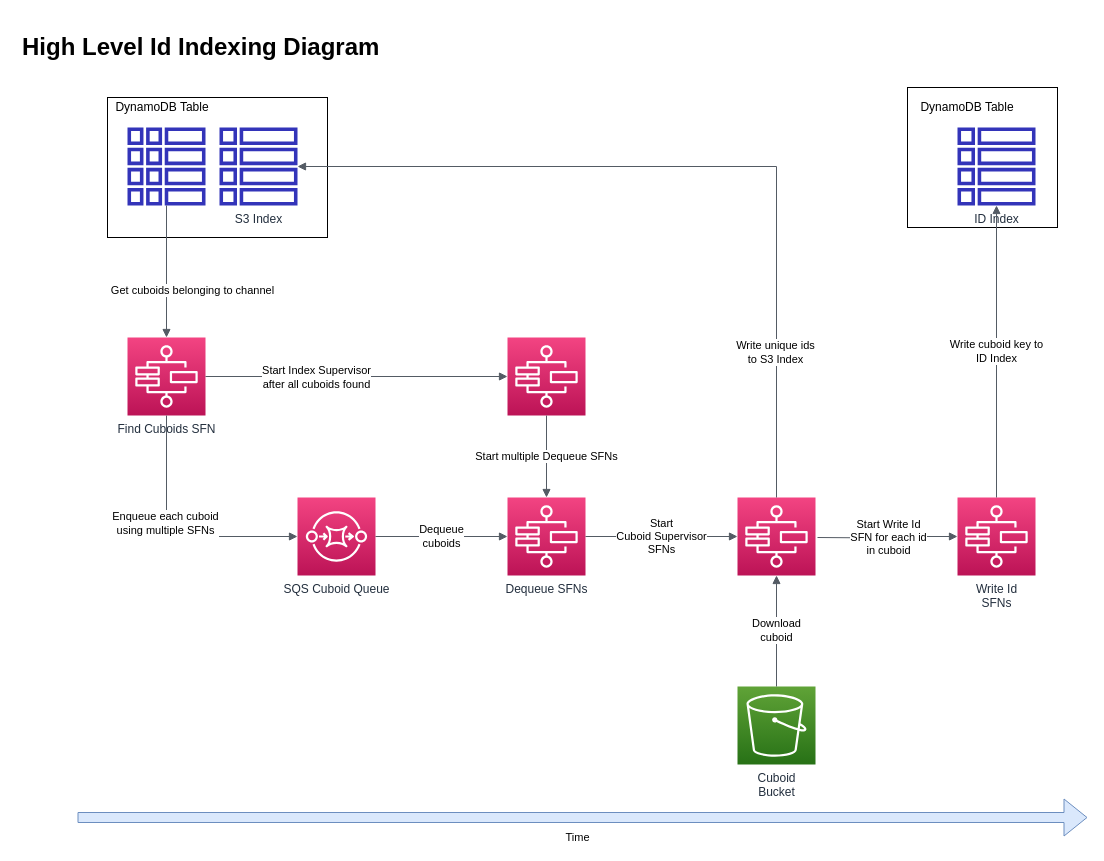
Image size: 1104x861. Some labels were removed from this diagram. Here are the shapes that lost their labels. From the top down, the centre of each, then its label:
At (166,166): "S3 Index GSI".
At (546,376): "Index Supervisor SFN".
At (776,536): "Cuboid Supervisor SFNs".
